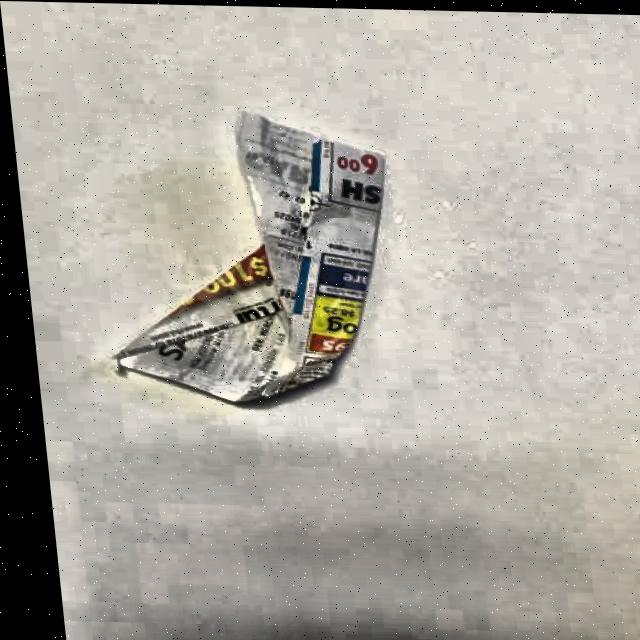paper: (87, 110, 418, 417)
